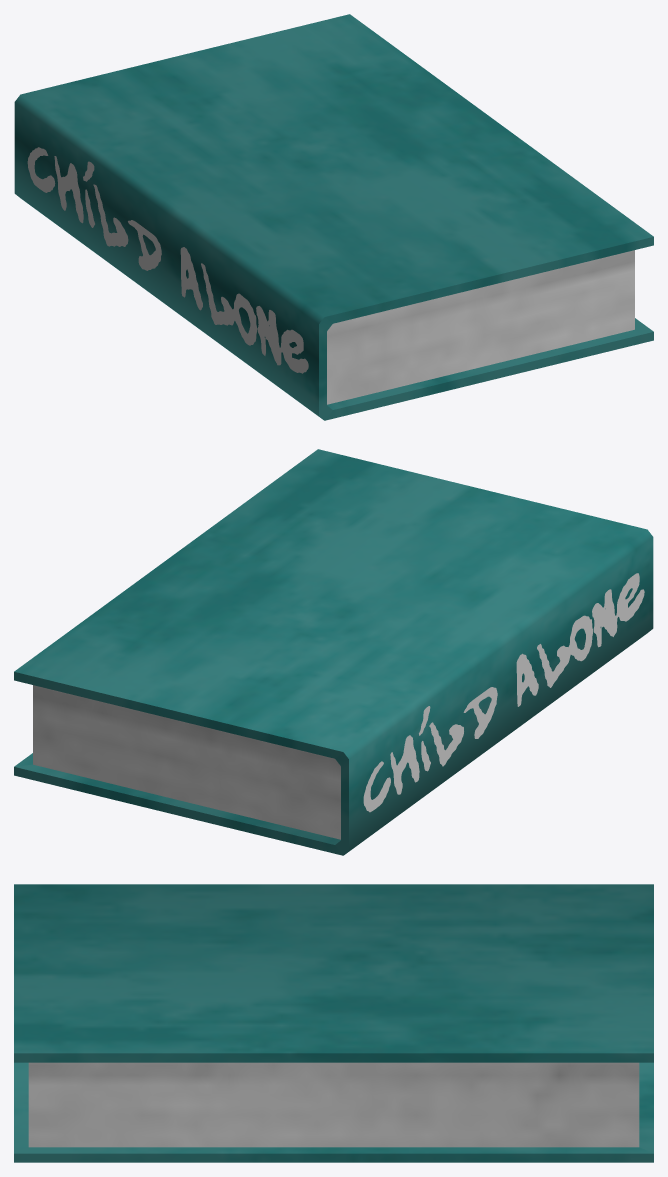
File: Book_ver2.fbx
3 views of the same model, one above another, from view 1: azimuth 30°, elevation 25°; view 2: azimuth 150°, elevation 25°; view 3: azimuth 270°, elevation 25° (orthographic). The views are drawn at different scales.
Parts seen in each view (by area): view 1: Book_ver2; view 2: Book_ver2; view 3: Book_ver2.
Boxes of the visible parts, box(x1,y1,x2,y2) form: Book_ver2: box(14, 14, 653, 420); Book_ver2: box(14, 449, 653, 855); Book_ver2: box(14, 884, 653, 1162).
Bounding box in the file's own units: 99.57 × 29.39 × 156.
